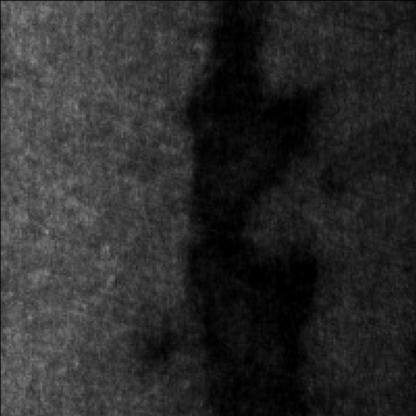patches: (179, 0, 333, 248), (185, 191, 337, 412)
